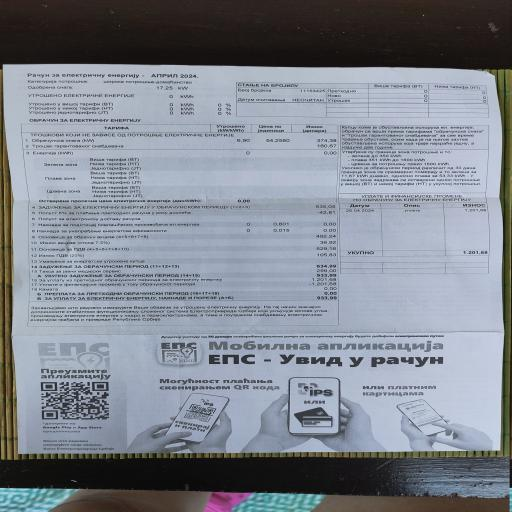racun_za_struju: (18, 114, 344, 210)
